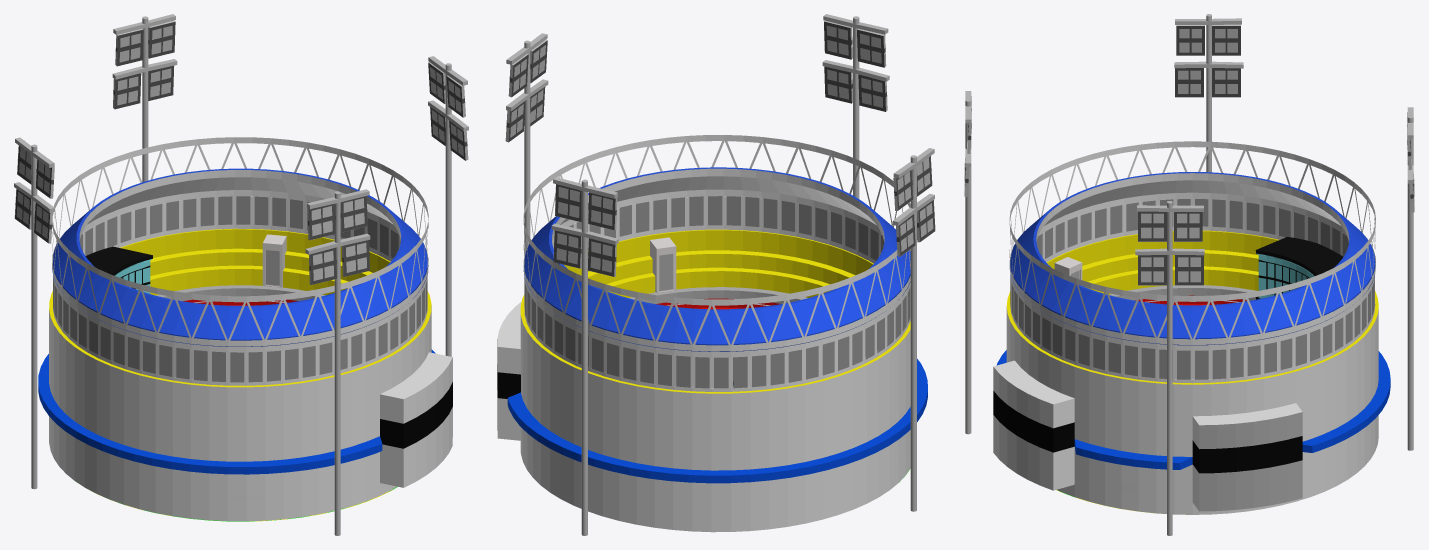
The model's file is Cricket_3.glb.
3 renders of one model, left to right at view 1: azimuth 30°, elevation 25°; view 2: azimuth 150°, elevation 25°; view 3: azimuth 270°, elevation 25°, orthographic. The views are drawn at different scales.
Parts seen in each view (by area): view 1: Cylinder021_1, Cylinder023, Cylinder023_1, Cylinder023_2, Cylinder021_4, Cube016, Cylinder021, Cube017, Cube015, Cube018, Cylinder007, Cylinder008 (+9 smaller); view 2: Cylinder021_1, Cylinder023, Cylinder023_1, Cylinder023_2, Cylinder021_4, Cylinder021, Cube015, Cube017, Cube016, Cylinder008, Cylinder007, Cube018 (+8 smaller); view 3: Cylinder021_1, Cylinder023, Cylinder023_1, Cylinder023_2, Cylinder021_2, Cube018, Cylinder021_3, Cylinder021, Cylinder021_4, Cube017, Cube015, Cube016 (+7 smaller).
Boxes of the visible parts, box(x1,y1,x2,y2) form: Cylinder021_1: box(49, 305, 452, 521); Cylinder023: box(52, 137, 428, 385); Cylinder023_1: box(53, 196, 427, 382); Cylinder023_2: box(52, 168, 428, 346); Cylinder021_4: box(38, 349, 435, 474); Cube016: box(305, 189, 370, 535); Cylinder021: box(49, 228, 431, 521); Cube017: box(14, 137, 54, 489); Cube015: box(112, 14, 177, 182); Cube018: box(428, 56, 468, 356); Cylinder007: box(150, 265, 348, 295); Cylinder008: box(150, 248, 372, 281); Cylinder021_1: box(497, 301, 910, 532); Cylinder023: box(523, 135, 910, 391); Cylinder023_1: box(524, 196, 910, 388); Cylinder023_2: box(523, 167, 910, 351); Cylinder021_4: box(507, 358, 927, 483); Cylinder021: box(520, 229, 910, 393); Cube015: box(551, 177, 618, 535); Cube017: box(892, 148, 935, 511); Cube016: box(822, 14, 889, 198); Cylinder008: box(581, 250, 855, 284); Cylinder007: box(606, 267, 831, 297); Cube018: box(505, 33, 548, 255); Cylinder021_1: box(993, 307, 1378, 514); Cylinder023: box(1009, 141, 1375, 383); Cylinder023_1: box(1010, 199, 1374, 379); Cylinder023_2: box(1009, 172, 1375, 345); Cylinder021_2: box(1199, 412, 1302, 511); Cube018: box(1135, 201, 1204, 535); Cylinder021_3: box(993, 391, 1302, 473); Cylinder021: box(1006, 230, 1378, 514); Cylinder021_4: box(996, 350, 1390, 469); Cube017: box(1174, 14, 1243, 172); Cube015: box(1407, 107, 1414, 450); Cube016: box(964, 91, 971, 434).
Size of the model in its own units: 0.9978 by 0.8136 by 0.9978.
